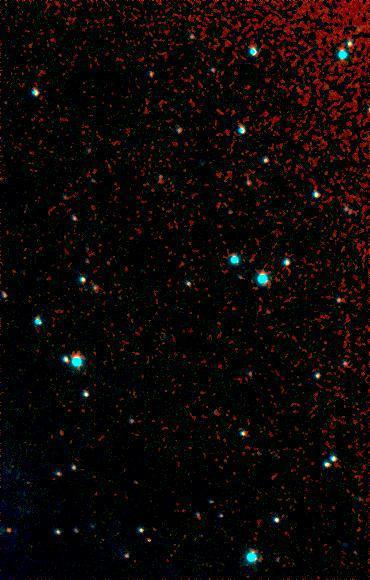star: (0, 517, 22, 547)
